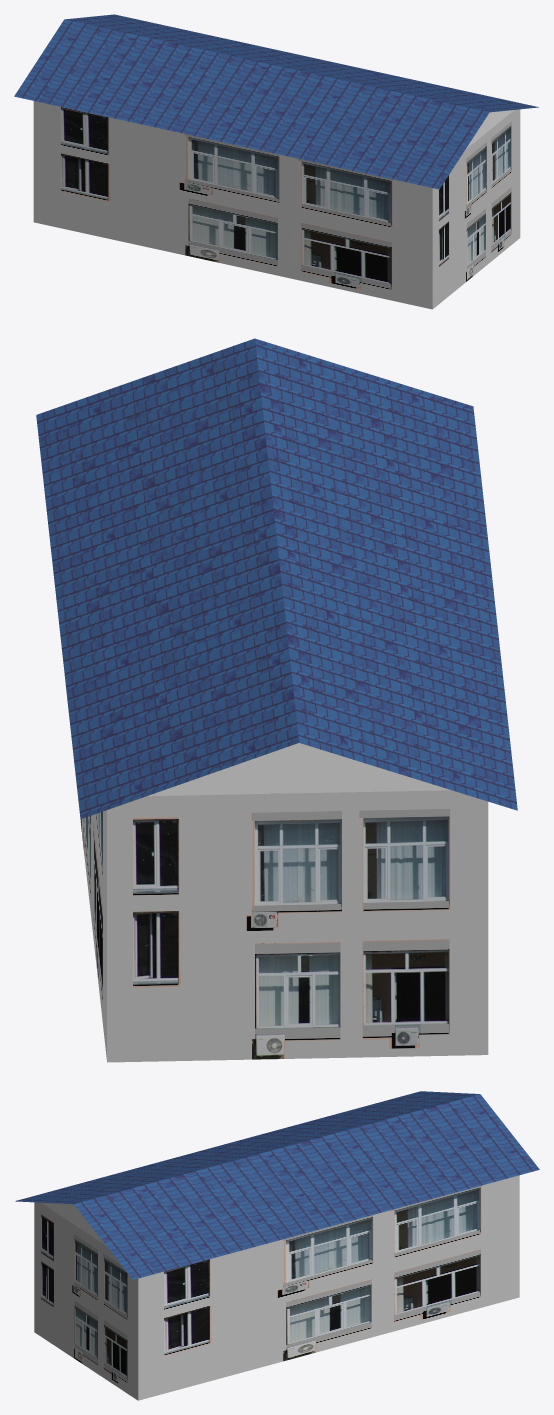
3 views of the same model, one above another, from view 1: azimuth 30°, elevation 25°; view 2: azimuth 150°, elevation 25°; view 3: azimuth 270°, elevation 25° (orthographic). The views are drawn at different scales.
Visible parts, largest first — view 1: CityEngineMaterial_9_m, CityEngineMaterial_10_m, CityEngineMaterial_3_m; view 2: CityEngineMaterial_10_m, CityEngineMaterial_9_m, CityEngineMaterial_3_m; view 3: CityEngineMaterial_9_m, CityEngineMaterial_10_m, CityEngineMaterial_3_m.
Boxes of the visible parts, x1,y1,x2,y2 form: CityEngineMaterial_9_m: (33, 101, 520, 309); CityEngineMaterial_10_m: (14, 14, 538, 189); CityEngineMaterial_3_m: (465, 110, 513, 149); CityEngineMaterial_10_m: (36, 338, 517, 818); CityEngineMaterial_9_m: (65, 685, 488, 1062); CityEngineMaterial_3_m: (147, 743, 450, 796); CityEngineMaterial_9_m: (34, 1175, 519, 1400); CityEngineMaterial_10_m: (15, 1091, 539, 1279); CityEngineMaterial_3_m: (41, 1202, 105, 1245).
Bounding box in the file's own units: 29.74 × 12.17 × 35.02.
